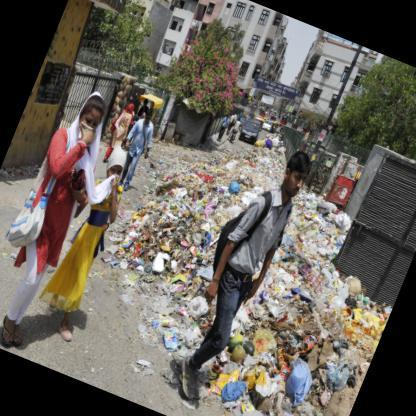Garbage: (248, 298, 382, 415), (119, 220, 216, 306), (150, 166, 235, 257), (279, 202, 350, 283), (281, 207, 347, 291), (198, 148, 262, 202), (254, 138, 288, 184)
